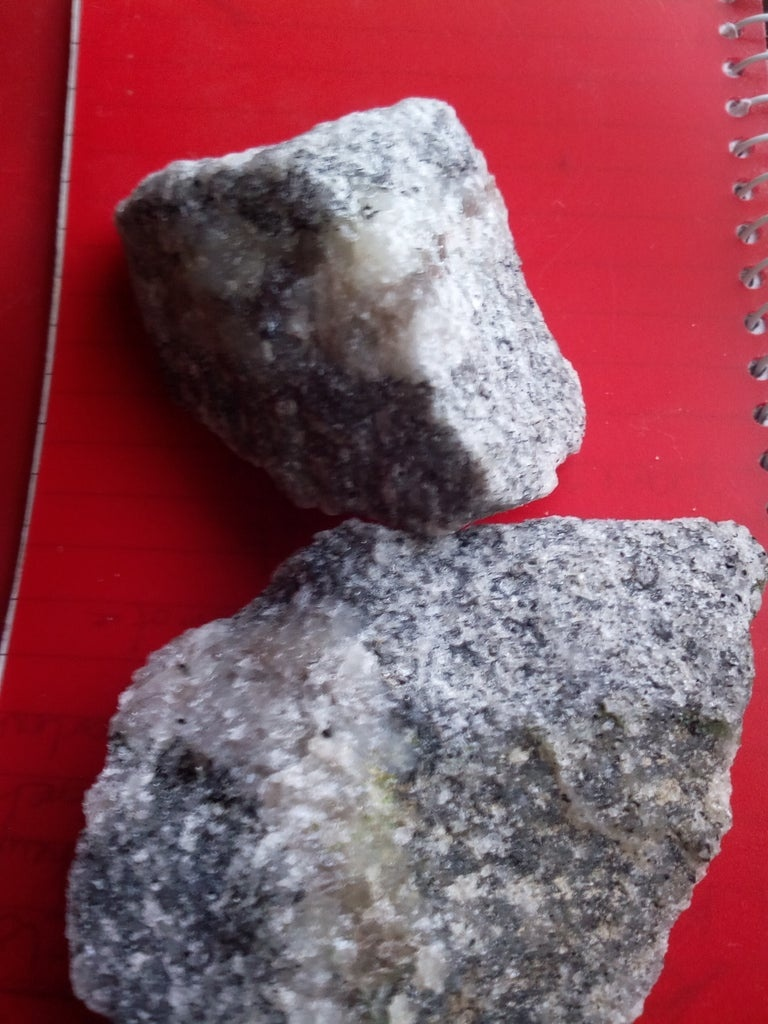obstacle: (68, 99, 764, 1023)
